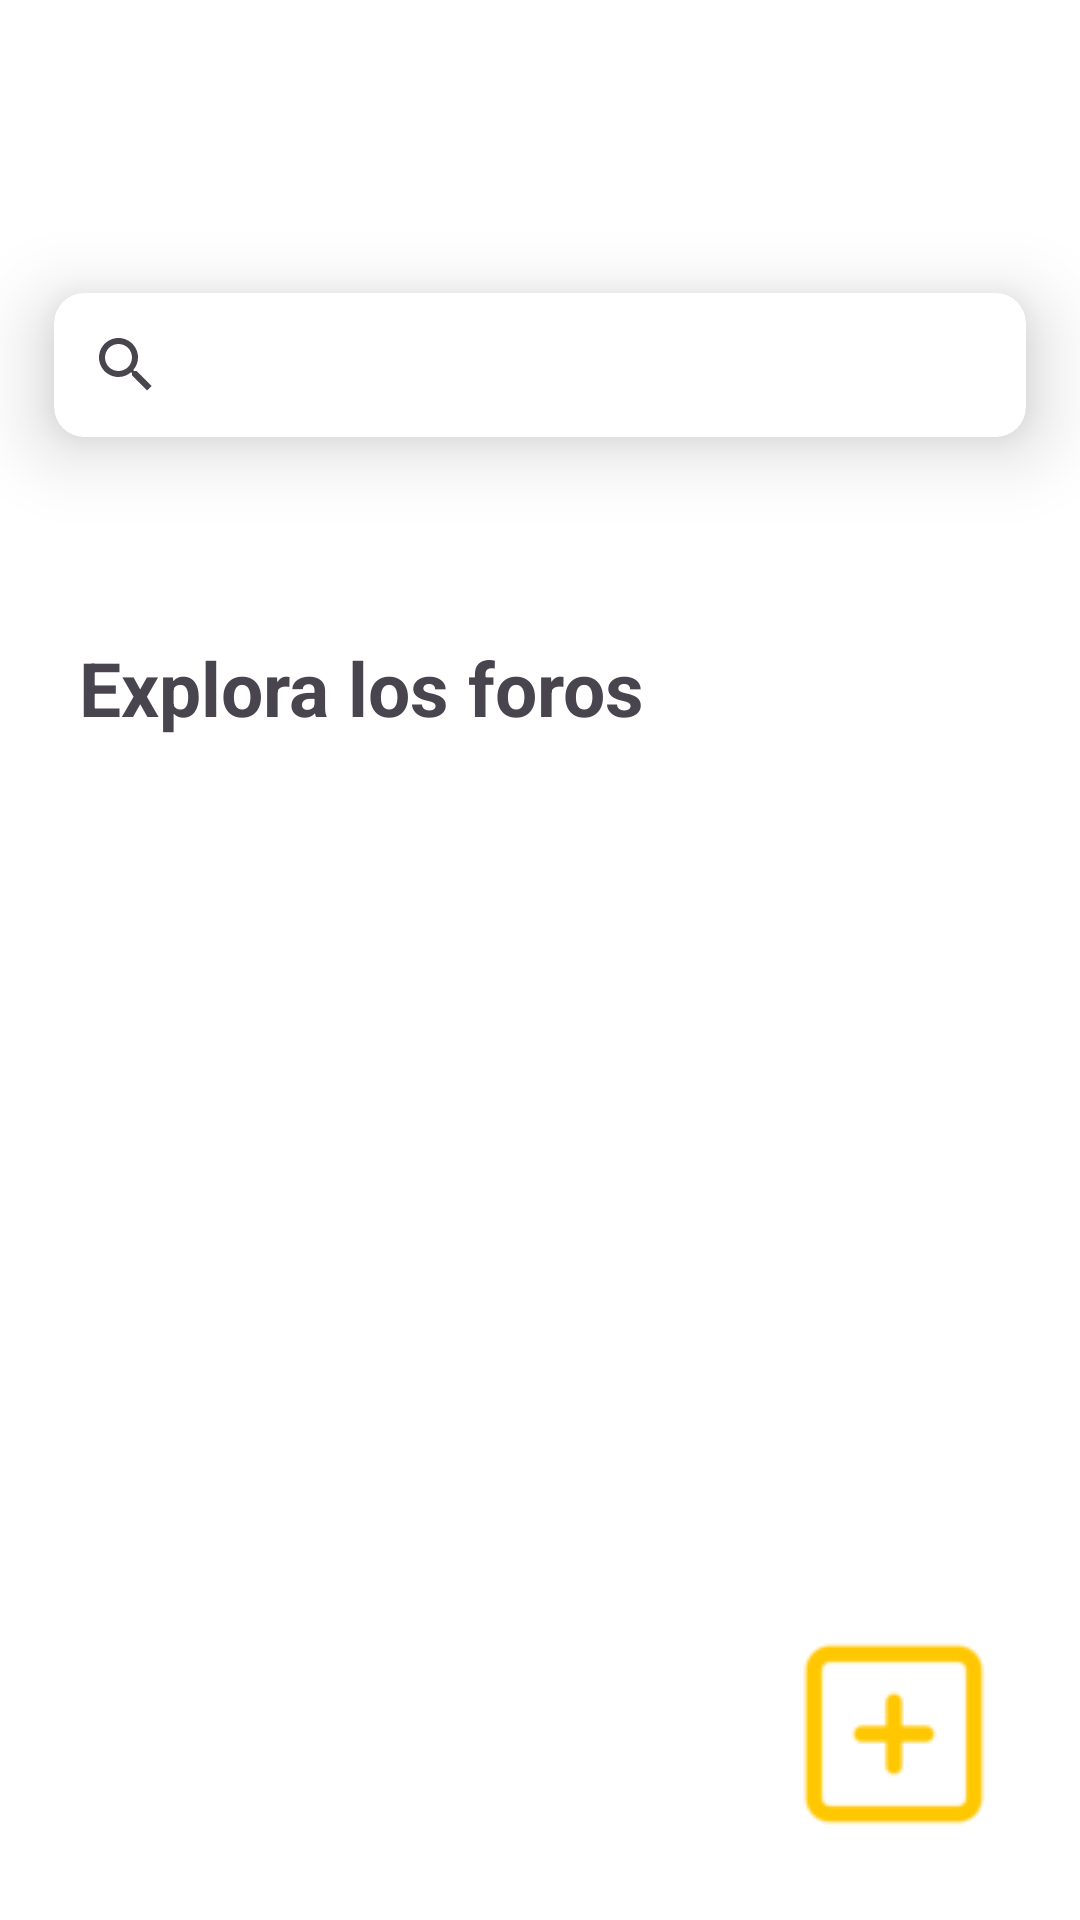

Icons on this 1080x1920 Android screen, each with the point to tap as (x=x, y=y):
add: (x=894, y=1734)
